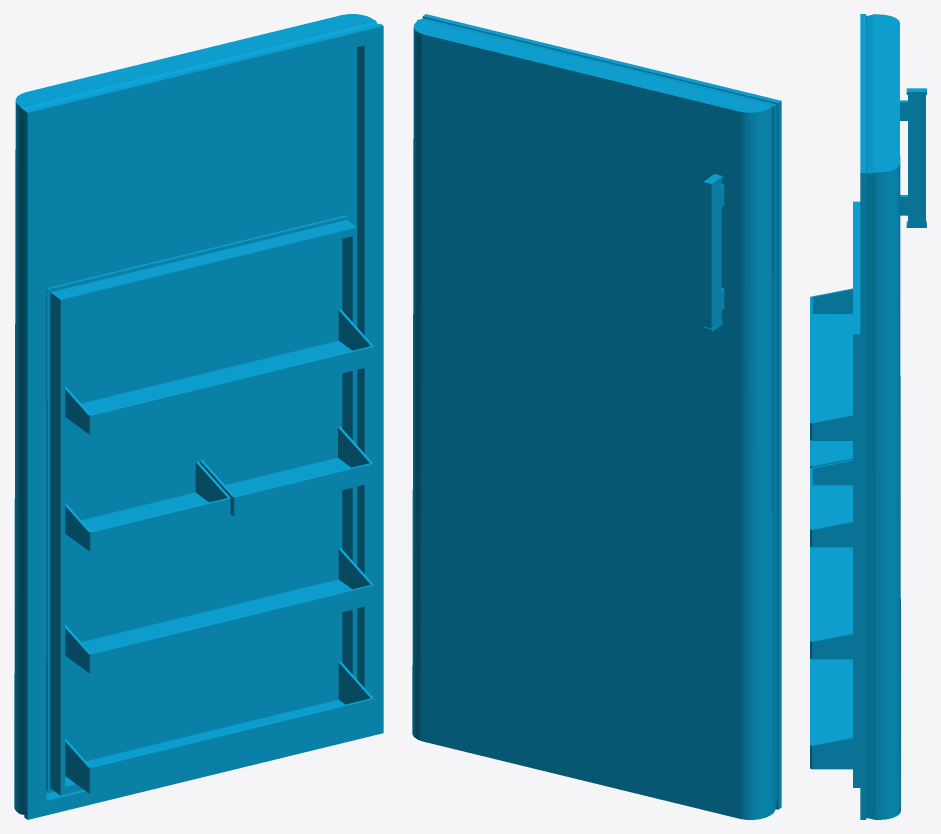
File: House_Fridge_01_Door_Lod1.fbx
3 renders of one model, left to right at view 1: azimuth 30°, elevation 25°; view 2: azimuth 150°, elevation 25°; view 3: azimuth 270°, elevation 25°, orthographic. The views are drawn at different scales.
Visible parts, largest first — view 1: House_Fridge_01_Door_Lod1; view 2: House_Fridge_01_Door_Lod1; view 3: House_Fridge_01_Door_Lod1.
Part boxes in pixels (box(x1,y1,x2,y2)): House_Fridge_01_Door_Lod1: box(14, 14, 383, 819); House_Fridge_01_Door_Lod1: box(412, 14, 781, 819); House_Fridge_01_Door_Lod1: box(810, 14, 926, 819).
Bounding box in the file's own units: 59.87 × 114 × 18.61.
